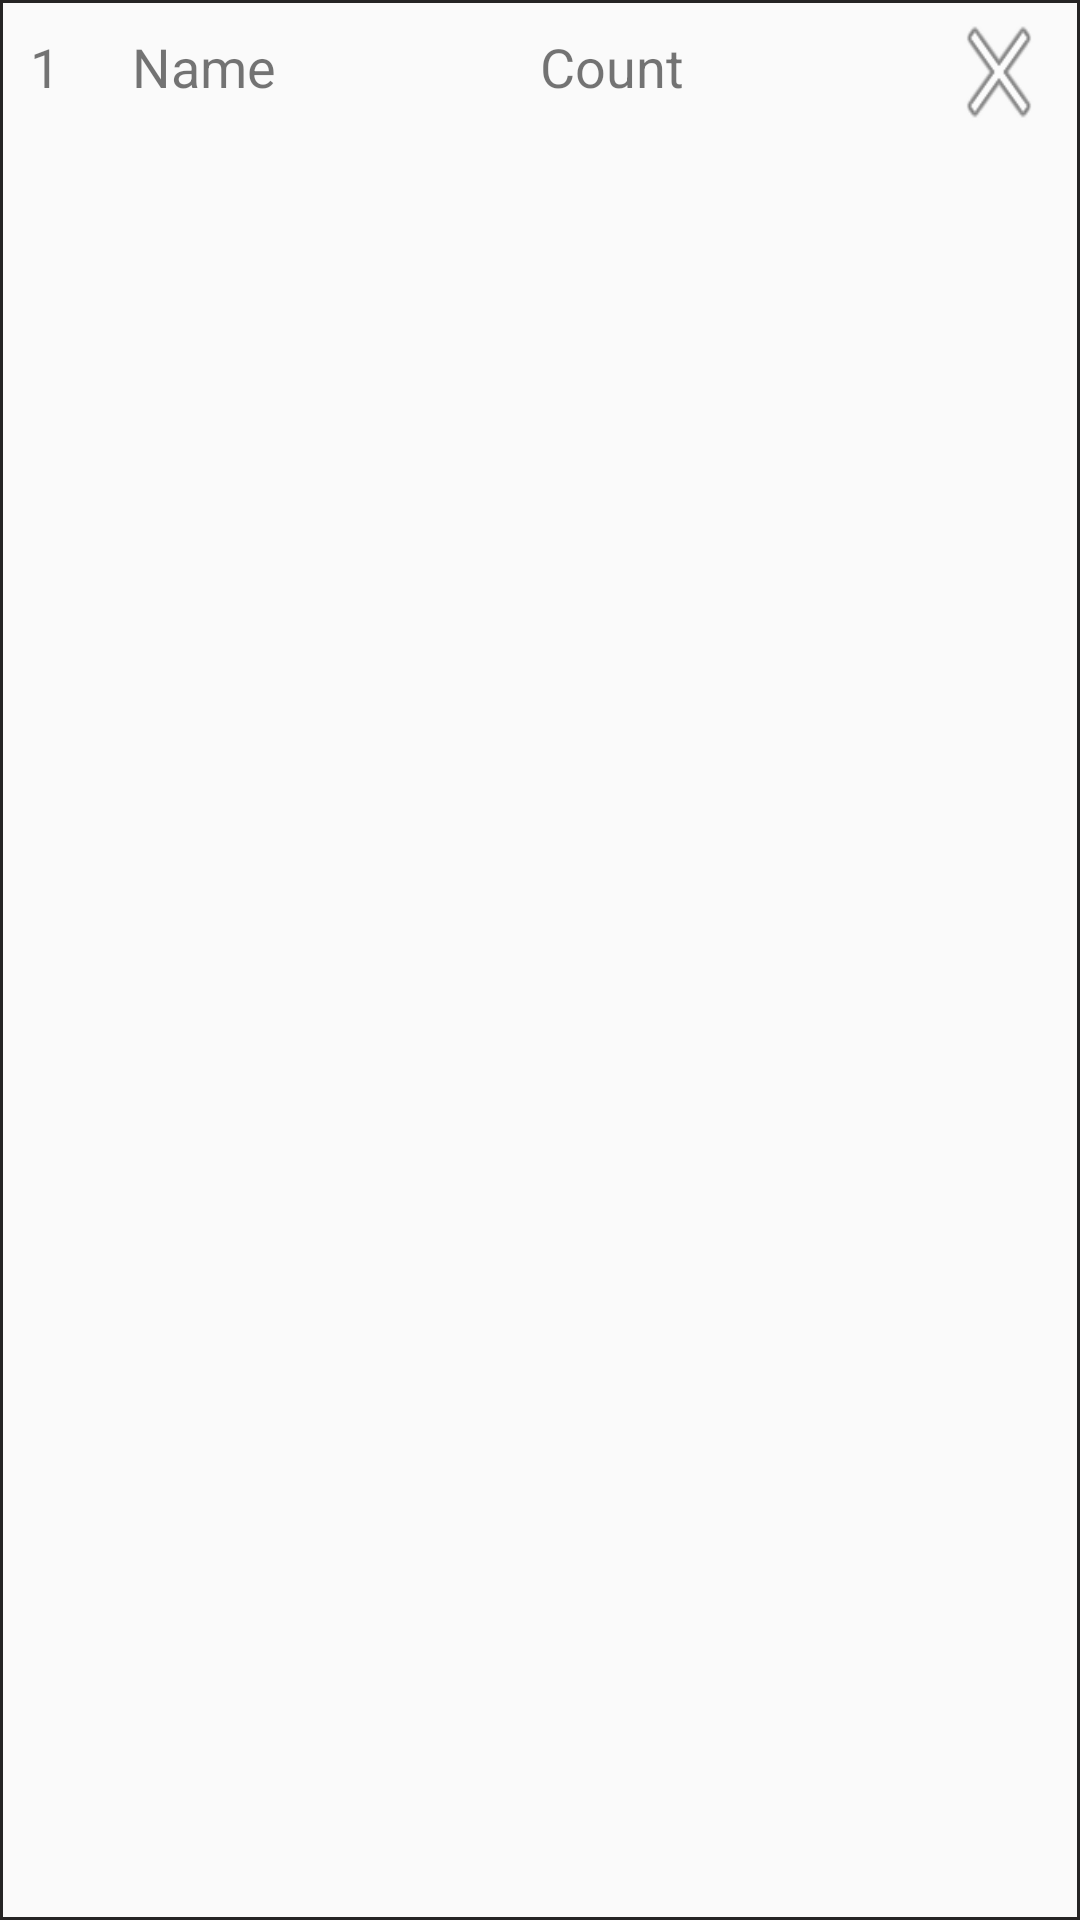

Where icons sit on this 1080x1920 app screen, as (left=x1, top=y1, right=x2, bottom=y2):
close clear cancel: (left=967, top=27, right=1031, bottom=117)
